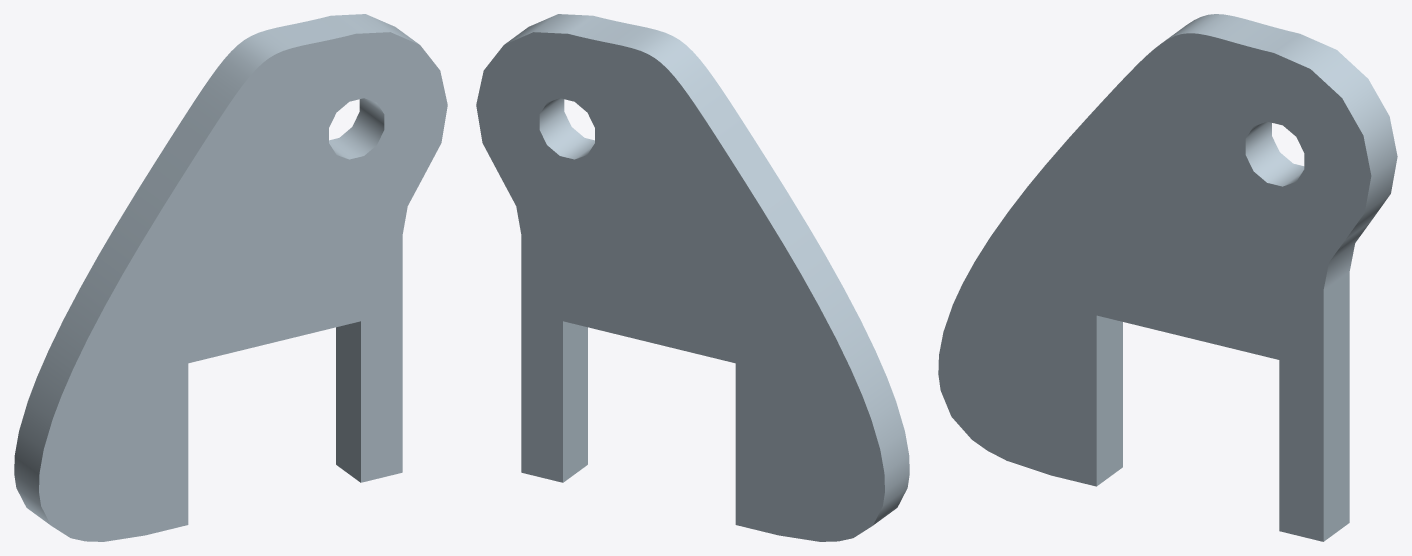
Rendered from prt0010.obj.
3 renders of one model, left to right at view 1: azimuth 30°, elevation 25°; view 2: azimuth 150°, elevation 25°; view 3: azimuth 330°, elevation 25°, orthographic. The views are drawn at different scales.
Visible parts, largest first — view 1: 1; view 2: 1; view 3: 1.
Part boxes in pixels (x1,y1,x2,y2): 1: (14,14,447,541); 1: (476,14,909,541); 1: (938,14,1397,541).
Size of the model in its own units: 28.6 by 30.18 by 3.
